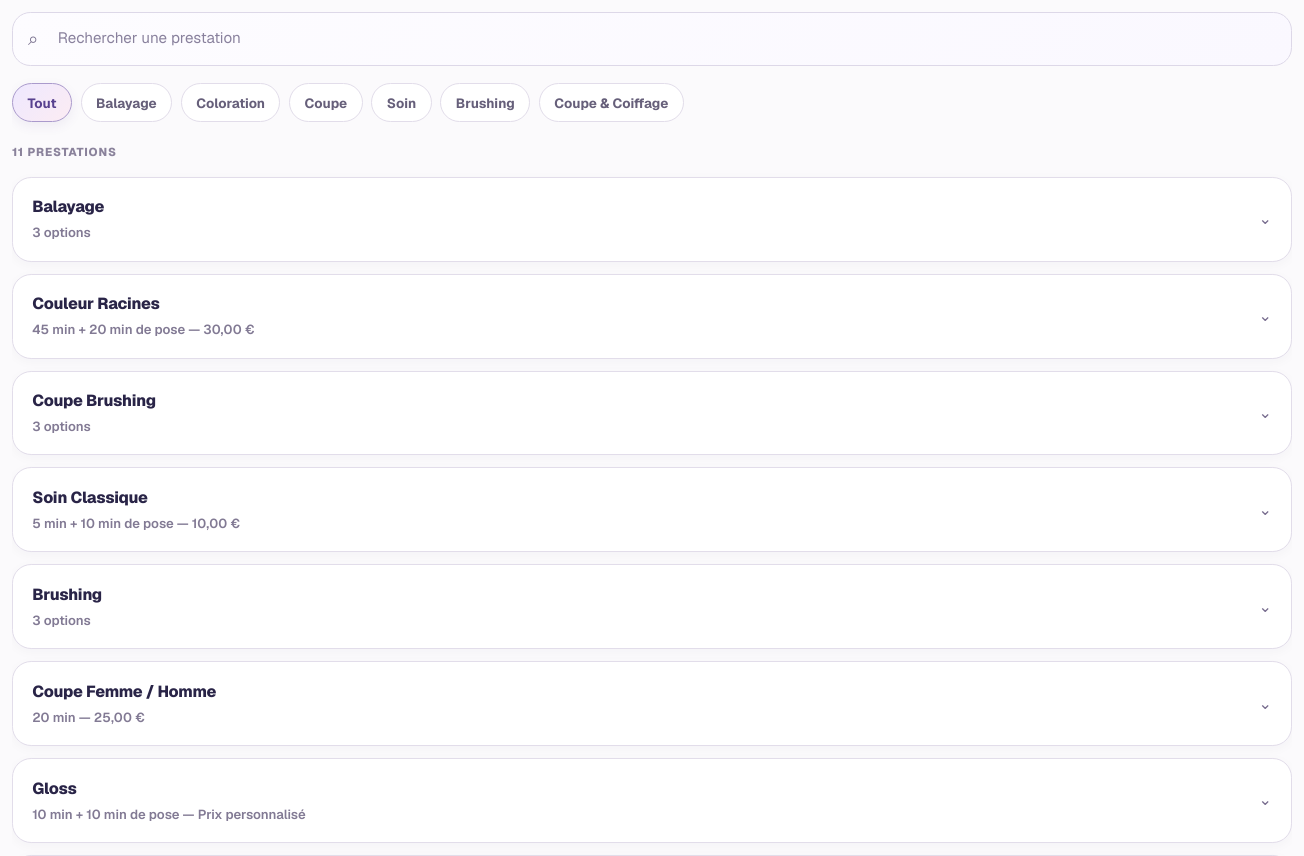
Test: ServicePicker › shows an empty state when nothing matches
The image size is (1304, 856).
In the search field labelled "Rechercher une prestation": (652, 39) [12, 12, 1292, 66], type "prestation inexistante"
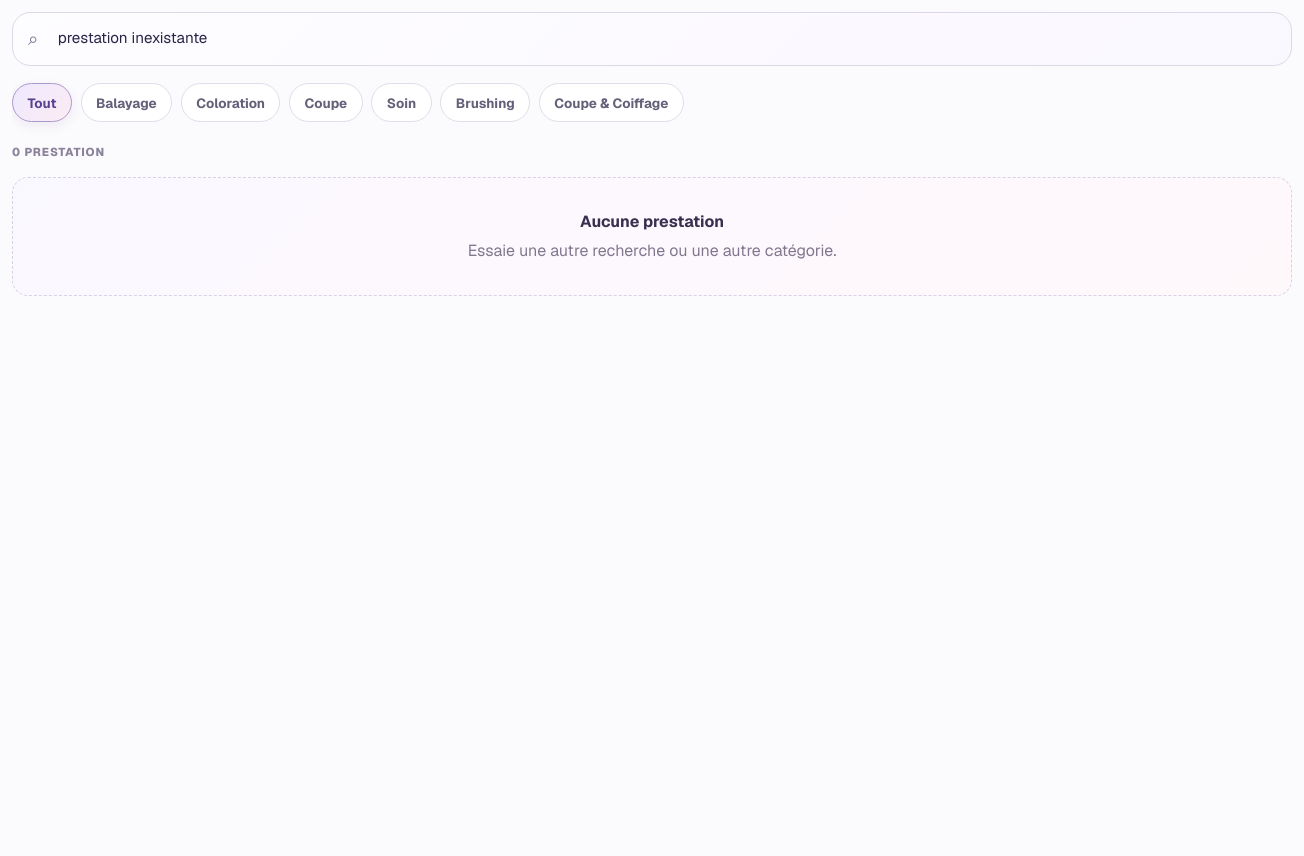
Now the text "Aucune prestation" is shown, box [580, 211, 724, 232]
